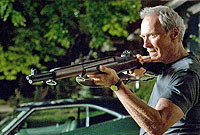gun: (24, 49, 167, 87)
